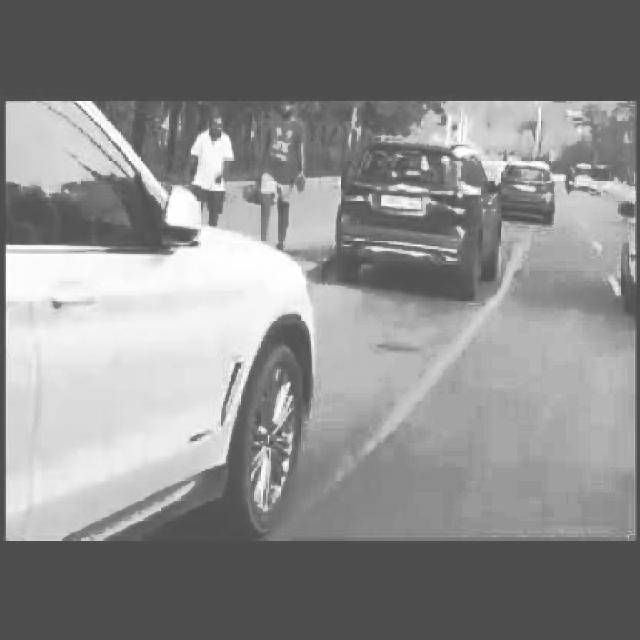Car: (2, 91, 316, 553), (347, 134, 516, 301), (502, 150, 556, 222)
